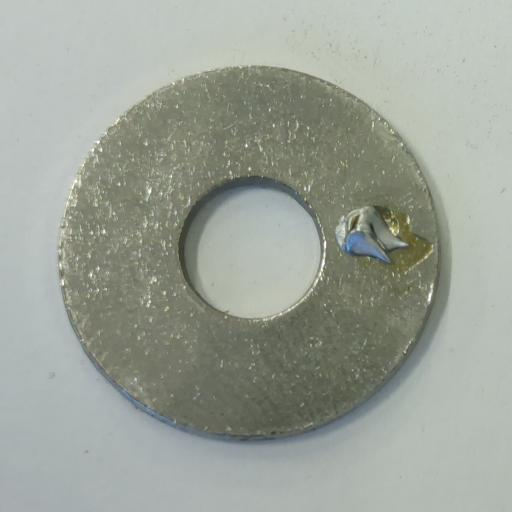excess_material: (336, 206, 409, 264)
